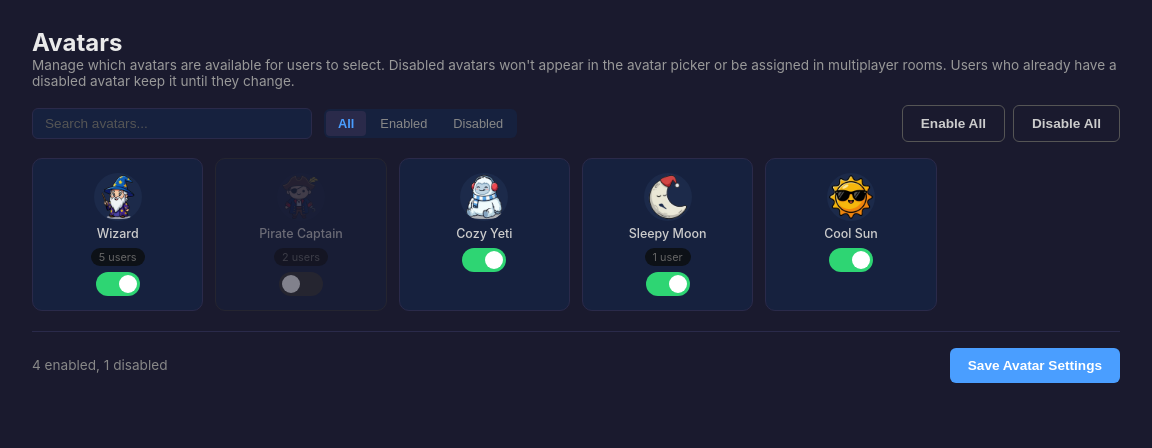
Test: AdminAvatarsPage › saves settings on button click
Note: Disable wizard
Click the checkbox below "Wizard": (118, 284) [96,272,140,296]
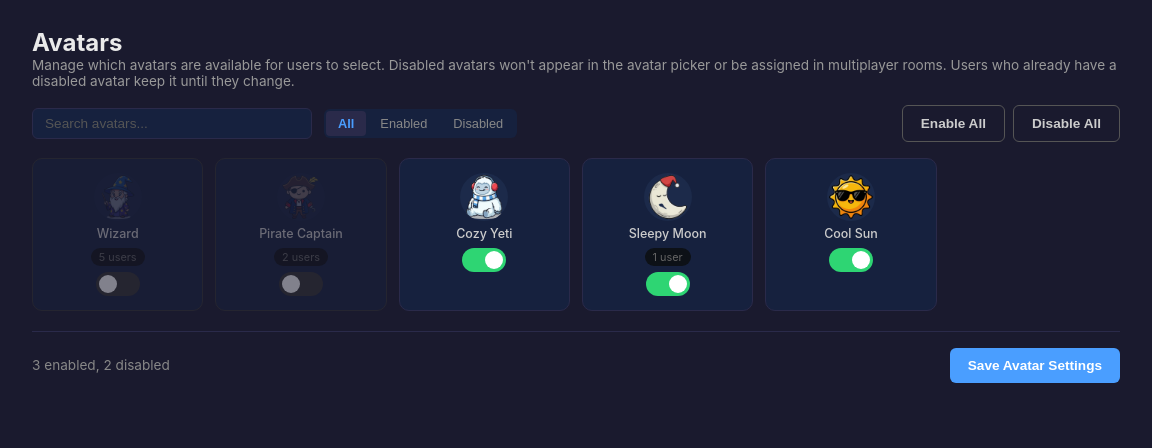
Click the button with test id "avatars-save": (1035, 366) [950,348,1120,383]
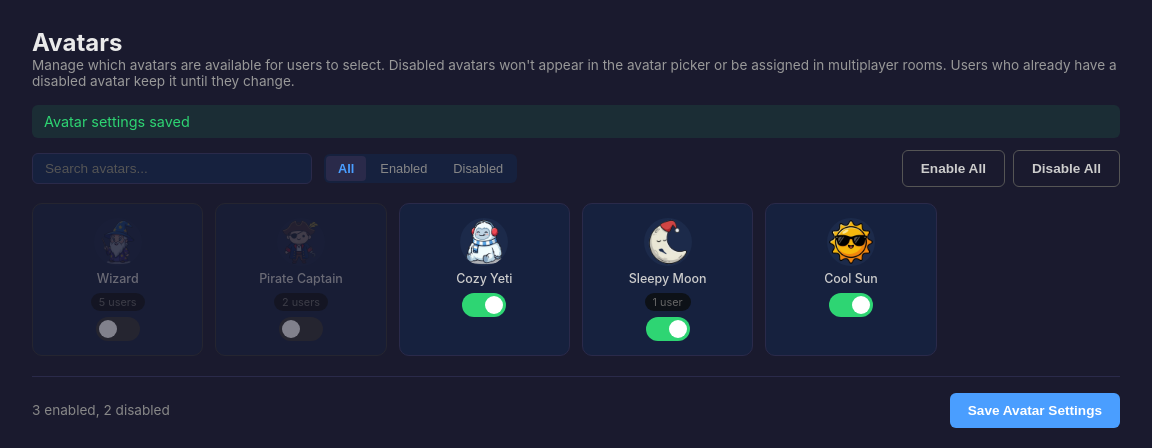
Now the text "Avatar settings saved" is shown, box [32,105,1120,138]
